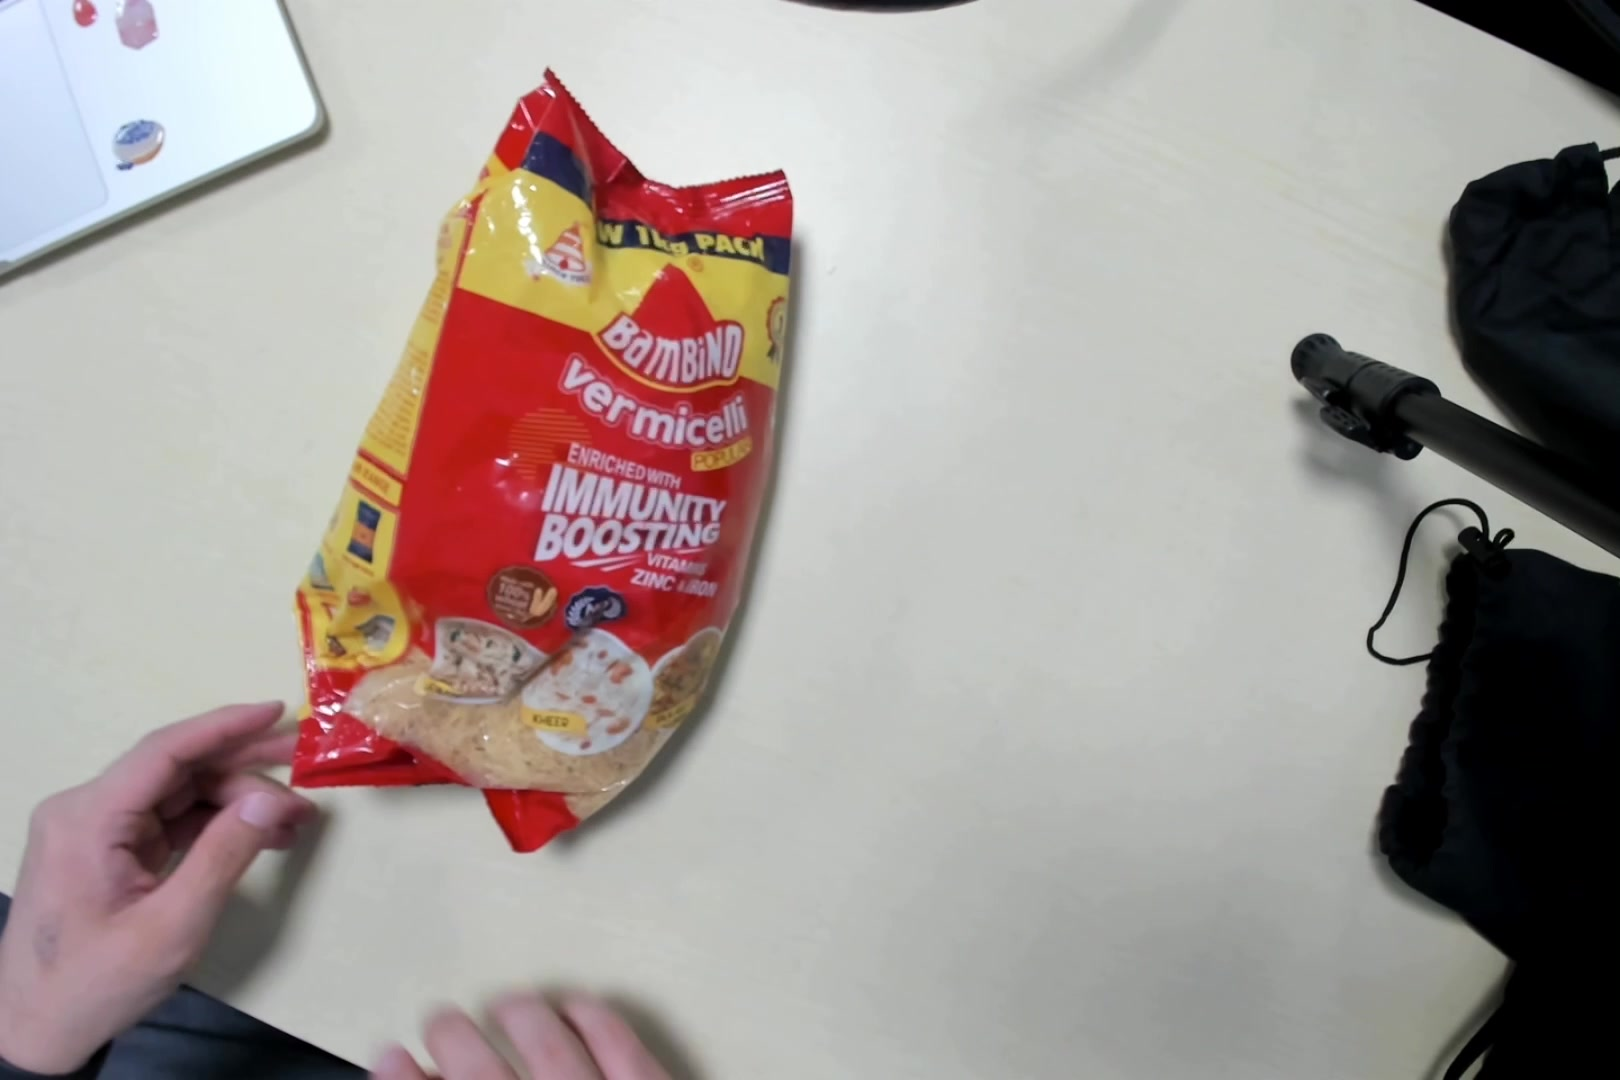OtherNoodles_300-399g_Halal_NonHealthy: (290, 76, 794, 837)
